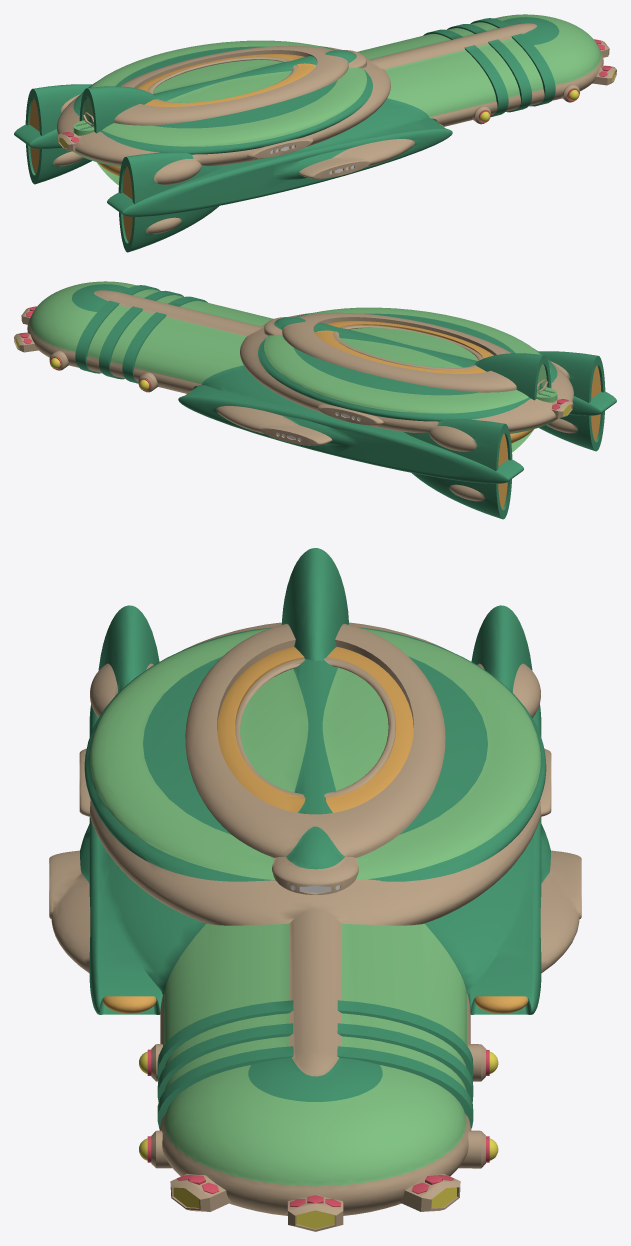
File: kre-star-knight.glb
The picture shows the model from 3 angles, top to bottom: view 1: azimuth 30°, elevation 25°; view 2: azimuth 150°, elevation 25°; view 3: azimuth 270°, elevation 25°; orthographic projection. The views are drawn at different scales.
Parts seen in each view (by area): view 1: Star Knight current hull - authored COLOR_0 regions; view 2: Star Knight current hull - authored COLOR_0 regions; view 3: Star Knight current hull - authored COLOR_0 regions.
Part boxes in pixels (<box>): Star Knight current hull - authored COLOR_0 regions: <box>14,14,616,252</box>; Star Knight current hull - authored COLOR_0 regions: <box>14,281,616,519</box>; Star Knight current hull - authored COLOR_0 regions: <box>49,548,581,1231</box>.
Size of the model in its own units: 7.74 by 1.74 by 3.29.
